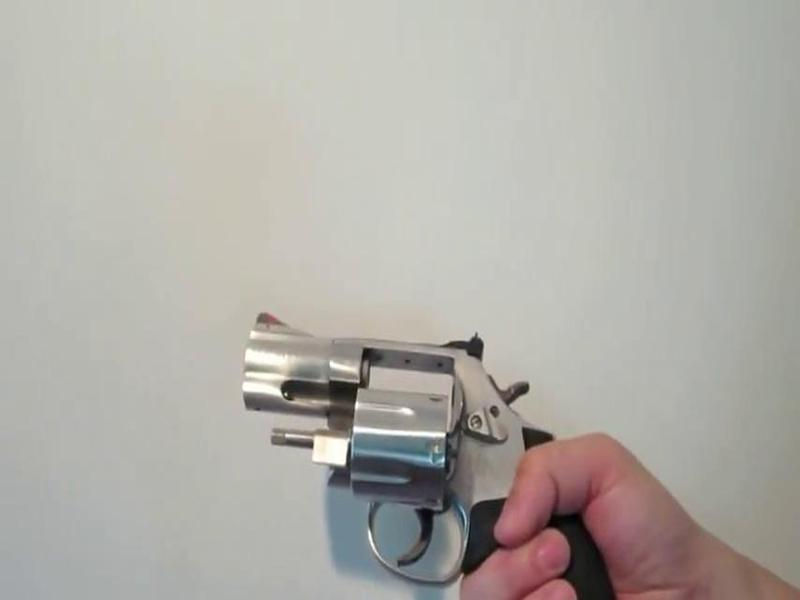Revolver: (227, 301, 609, 600)
